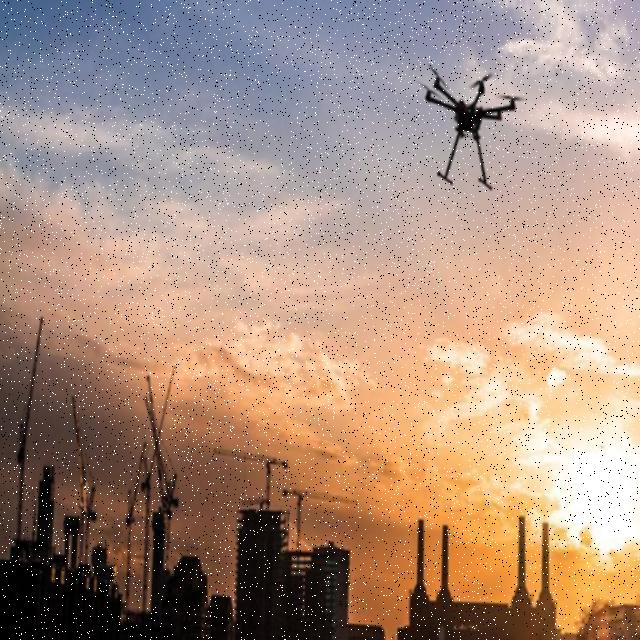UAV: (424, 65, 517, 194)
